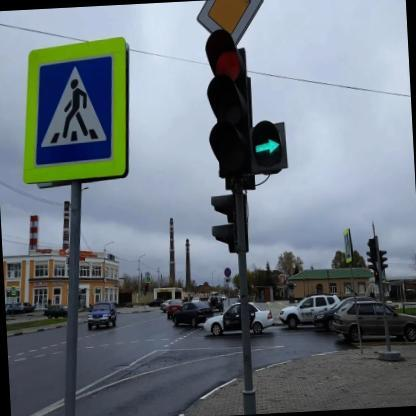obstructed_road_sign: (197, 0, 263, 44)
off traffic light: (212, 195, 237, 252), (378, 250, 389, 272), (366, 251, 377, 272)
road_sign: (23, 37, 126, 183)
traffic light: (206, 29, 288, 176)
